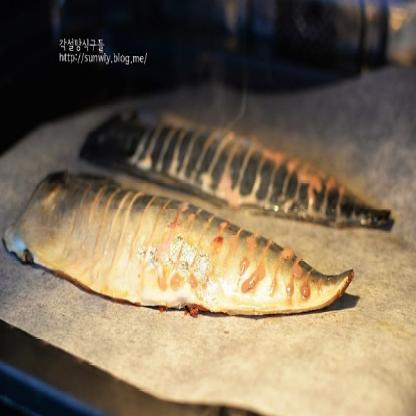Peixe: (0, 172, 370, 332), (80, 109, 400, 225)
